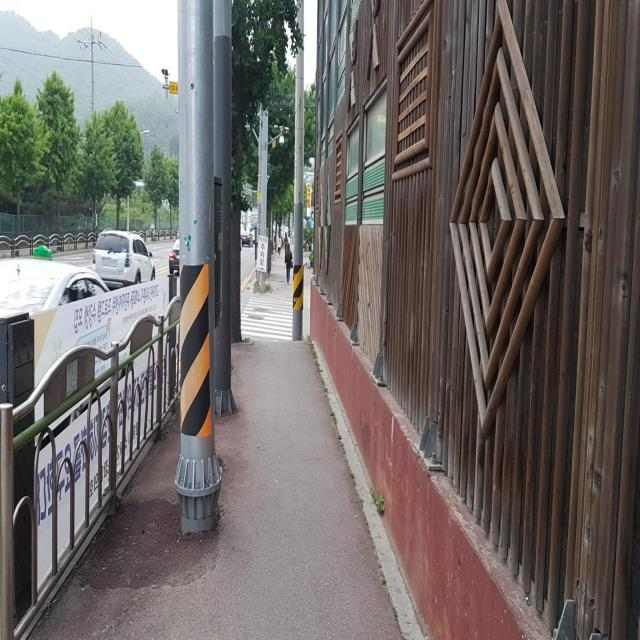횡단보도: (240, 295, 293, 342)
